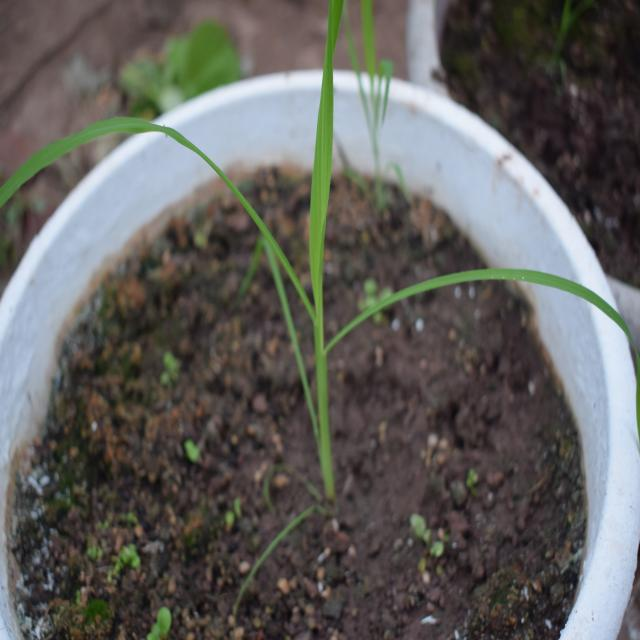barnyard_grass: (9, 58, 624, 450)
